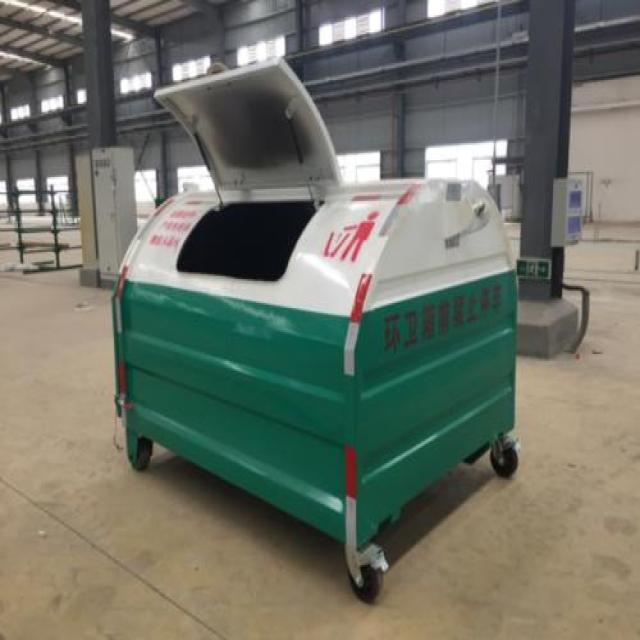garbage_bin: (110, 175, 516, 601)
